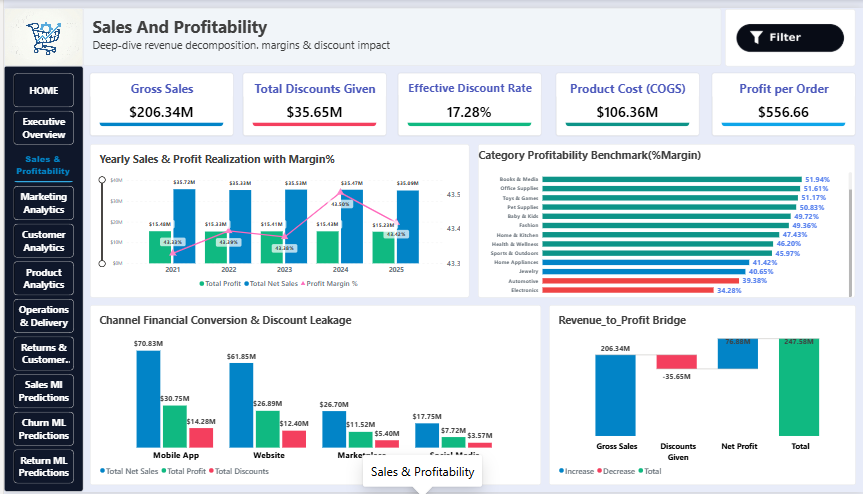

Layout of this report page (visuals, bound fields, positions):
{"tool":"powerbi","page":{"name":"Sales & Profitability","canvas":[1920,1080],"ordinal":2},"visuals":[{"type":"image","box":[0,0,177.1,129.6],"z":0},{"type":"pageNavigator","box":[0,129.6,177.1,950.4],"z":1000},{"type":"textbox","box":[177.5,0,1425.2,129.1],"z":2000},{"type":"lineClusteredColumnComboChart","title":"Yearly Sales & Profit Realization with Margin%","fields":{"Category":["Dim_Date.Quarter","Dim_Date.Year"],"Y":["Dim_Date.Total Profit","Dim_Date.Total Net Sales"],"Y2":["Dim_Date.Profit Margin %"]},"box":[192.2,304.6,846.7,343.4],"z":3000},{"type":"clusteredBarChart","title":"Category Profitability Benchmark(%Margin)","fields":{"Category":["product_catalog_cleaned.product_category"],"Y":["Dim_Date.Category Margin %"]},"box":[1058.4,304.6,842.4,343.4],"z":4000},{"type":"cardVisual","title":"Effective Discount Rate","fields":{"Data":["Dim_Date.Effective Discount Rate %"]},"box":[879.1,144.7,319.7,140.4],"z":5000},{"type":"cardVisual","title":"Gross Sales","fields":{"Data":["Dim_Date.Total Gross Sales"]},"box":[192.2,144.7,319.7,140.4],"z":6000},{"type":"cardVisual","title":"Product Cost (COGS)","fields":{"Data":["Dim_Date.Total Product Cost"]},"box":[1233.4,144.7,319.7,140.4],"z":7000},{"type":"cardVisual","title":"Total Discounts Given","fields":{"Data":["Dim_Date.Total Discounts"]},"box":[533.5,144.7,319.7,140.4],"z":8000},{"type":"cardVisual","title":"Profit per Order","fields":{"Data":["Dim_Date.Profit Per Order"]},"box":[1581.1,144.7,319.7,140.4],"z":9000},{"type":"clusteredColumnChart","title":"Channel Financial Conversion & Discount Leakage","fields":{"Category":["ecommerce_sales_customer_analytics_cleaned.sales_channel"],"Y":["Dim_Date.Total Net Sales","Dim_Date.Total Profit","Dim_Date.Total Discounts"]},"box":[192.2,663.1,1006.6,401.8],"z":10000},{"type":"waterfallChart","title":"Revenue_to_Profit Bridge","fields":{"Category":["Bridge_Stages.StageName"],"Y":["Bridge_Stages.Waterfall Bridge Value"]},"box":[1216.1,663.1,684.7,401.8],"z":11000},{"type":"image","title":"filter icon","box":[1610.2,2,290.7,128.5],"z":12000}]}

Visuals, with their boxes in screenshot pixels (x1, y1, x2, y2), scaled from the page's 1920x1080 canvas onto the 863x494 screenshot:
image: left=0, top=0, right=80, bottom=59
pageNavigator: left=0, top=59, right=80, bottom=493
textbox: left=80, top=0, right=720, bottom=59
"Yearly Sales & Profit Realization with Margin%" lineClusteredColumnComboChart: left=86, top=139, right=467, bottom=296
"Category Profitability Benchmark(%Margin)" clusteredBarChart: left=476, top=139, right=854, bottom=296
"Effective Discount Rate" cardVisual: left=395, top=66, right=539, bottom=130
"Gross Sales" cardVisual: left=86, top=66, right=230, bottom=130
"Product Cost (COGS)" cardVisual: left=554, top=66, right=698, bottom=130
"Total Discounts Given" cardVisual: left=240, top=66, right=383, bottom=130
"Profit per Order" cardVisual: left=711, top=66, right=854, bottom=130
"Channel Financial Conversion & Discount Leakage" clusteredColumnChart: left=86, top=303, right=539, bottom=487
"Revenue_to_Profit Bridge" waterfallChart: left=547, top=303, right=854, bottom=487
"filter icon" image: left=724, top=1, right=854, bottom=60
